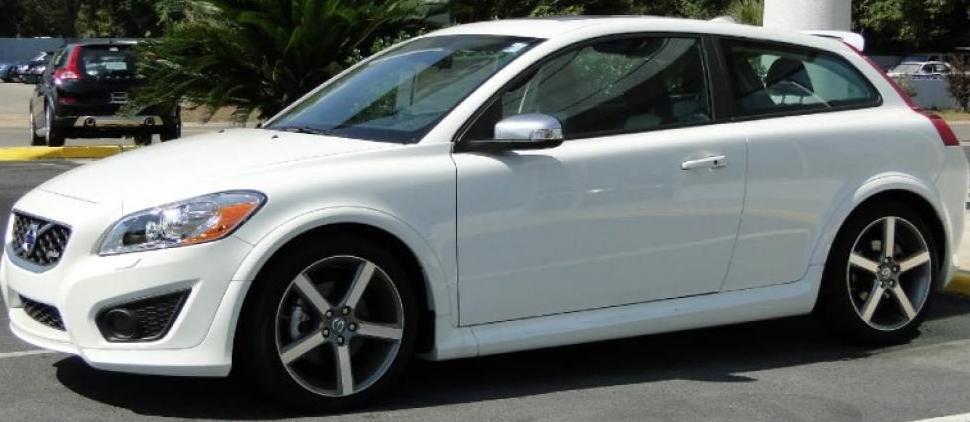front_view: (4, 164, 320, 402)
headlight: (91, 175, 272, 266)
side_glass: (459, 37, 902, 139)
